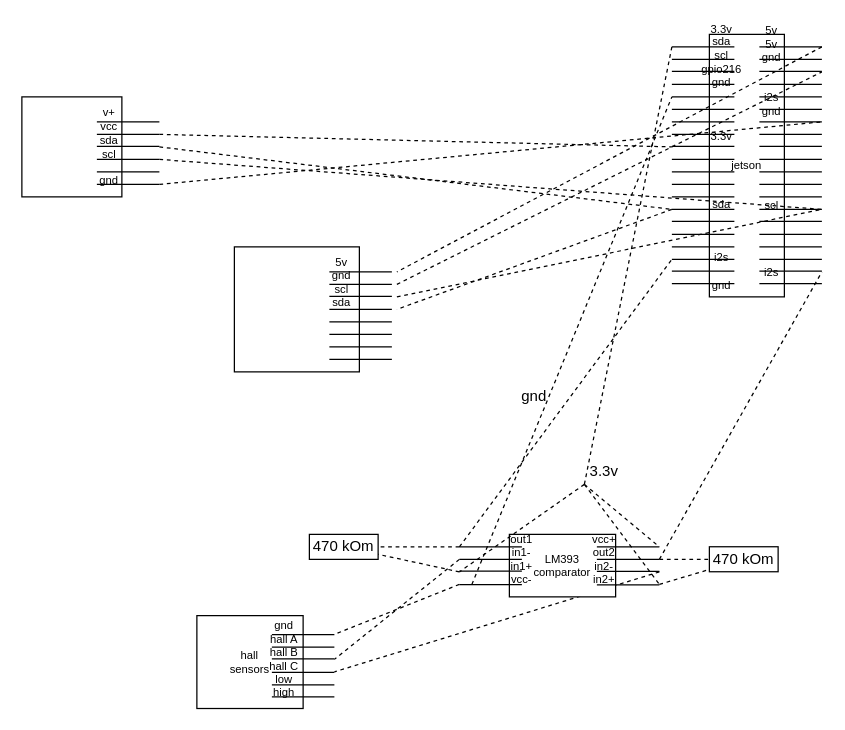
This 845x730 diagram has some shape labels left out. Each missing label, with the box of its shape:
IMU: (233, 246, 359, 372)
ШИМ: (21, 96, 122, 197)
